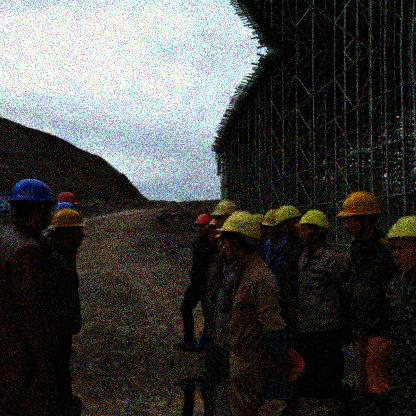helmet: (334, 190, 383, 244), (10, 178, 52, 230), (220, 212, 262, 264), (382, 215, 416, 273), (293, 209, 333, 251), (52, 210, 86, 250), (277, 205, 300, 242), (212, 200, 238, 227), (262, 209, 280, 239), (192, 215, 211, 241)
